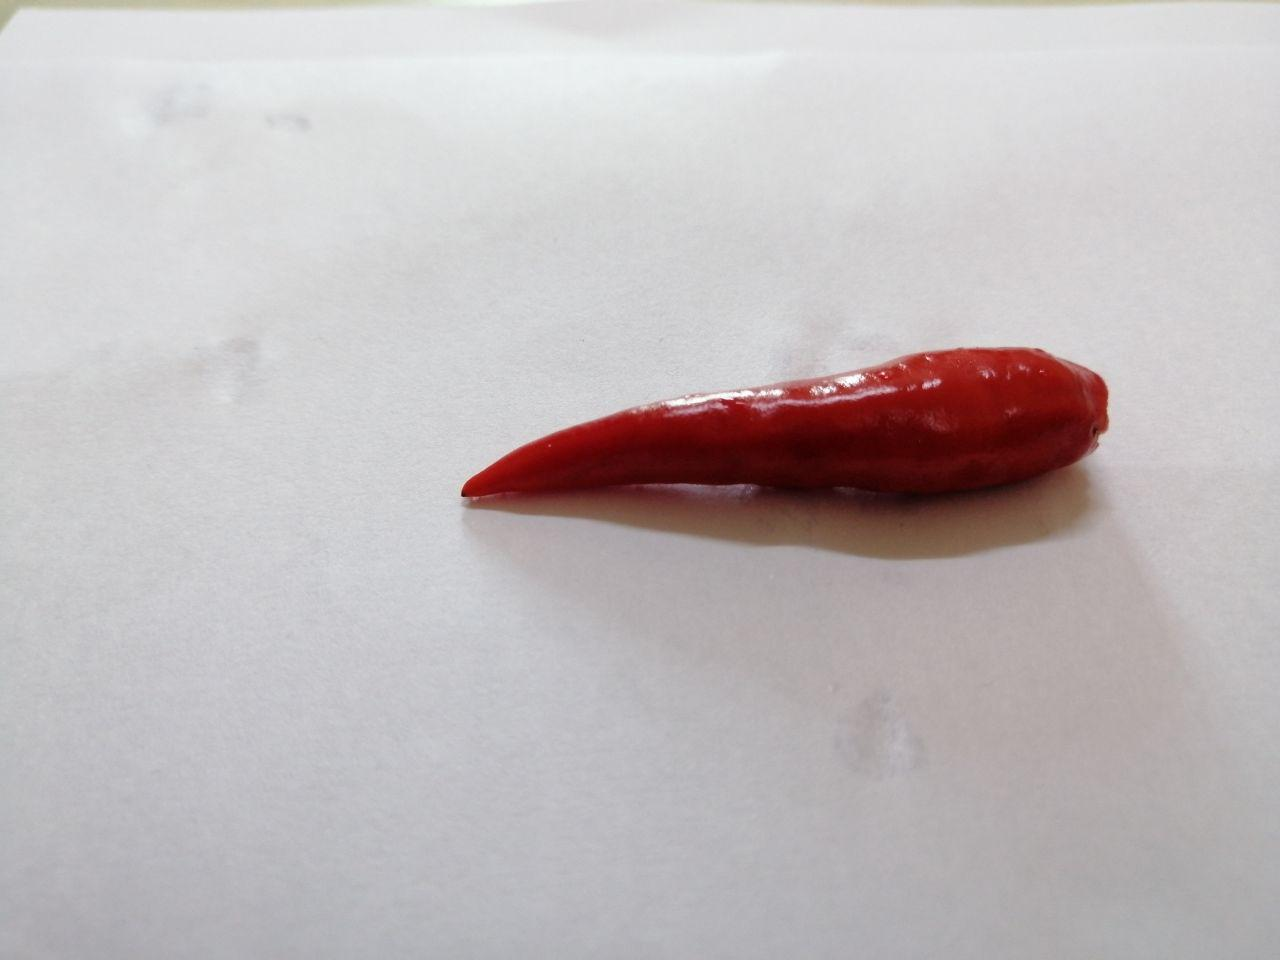lada merah: (433, 330, 1124, 546)
